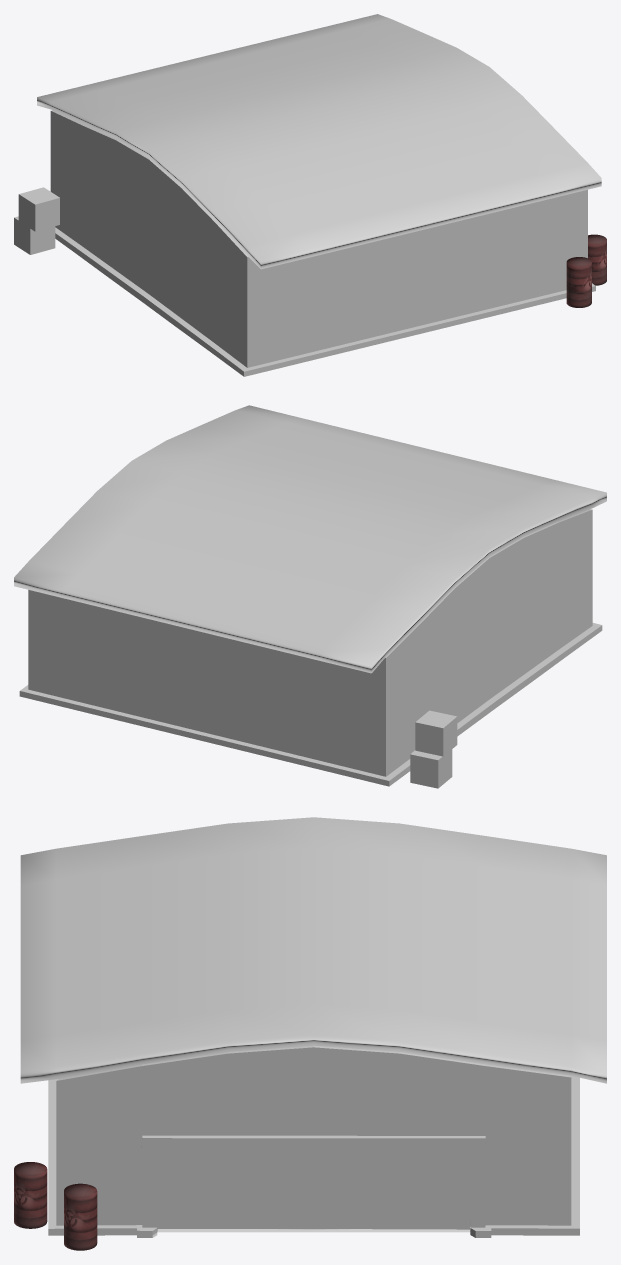
3 views of the same model, one above another, from view 1: azimuth 30°, elevation 25°; view 2: azimuth 150°, elevation 25°; view 3: azimuth 270°, elevation 25° (orthographic). The views are drawn at different scales.
Visible parts, largest first — view 1: Cube.001, Cube, Cube.003, Cylinder.000, Cube.004, Cylinder.001; view 2: Cube.001, Cube, Cube.003, Cube.004; view 3: Cube.001, Cube, Cube.002, Cylinder.001, Cylinder.000.
Boxes of the visible parts, x1=… form: Cube.001: x1=37, y1=14, x2=601, y2=269; Cube: x1=50, y1=110, x2=595, y2=376; Cube.003: x1=18, y1=187, x2=59, y2=231; Cylinder.000: x1=566, y1=257, x2=591, y2=307; Cube.004: x1=14, y1=216, x2=55, y2=254; Cylinder.001: x1=588, y1=234, x2=606, y2=285; Cube.001: x1=14, y1=405, x2=606, y2=673; Cube: x1=19, y1=509, x2=602, y2=786; Cube.003: x1=415, y1=710, x2=457, y2=756; Cube.004: x1=410, y1=749, x2=452, y2=788; Cube.001: x1=20, y1=817, x2=606, y2=1083; Cube: x1=48, y1=1045, x2=579, y2=1237; Cube.002: x1=157, y1=1148, x2=469, y2=1229; Cylinder.001: x1=64, y1=1183, x2=97, y2=1250; Cylinder.000: x1=14, y1=1162, x2=47, y2=1228.
Bounding box in the file's own units: 1932 × 684 × 1848.
